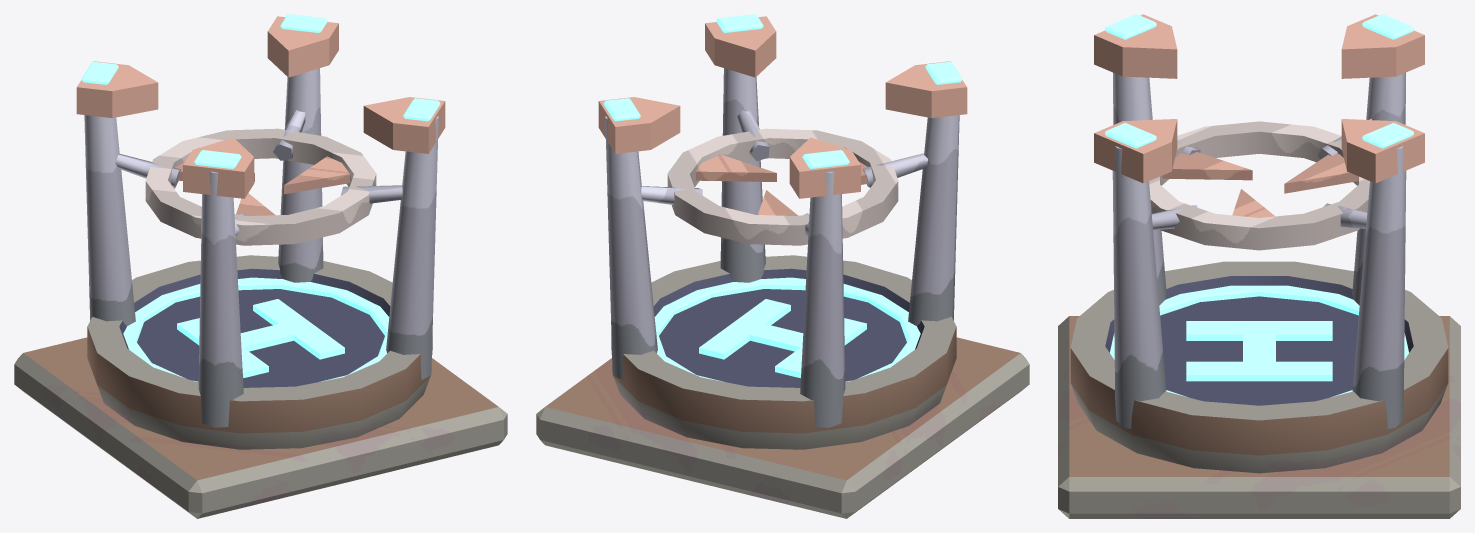
The model's file is R4X_FlyingDroneDeployer_LOD1.glb.
3 views of the same model, side by side, from view 1: azimuth 30°, elevation 25°; view 2: azimuth 150°, elevation 25°; view 3: azimuth 270°, elevation 25° (orthographic). The views are drawn at different scales.
Visible parts, largest first — view 1: R4X_FlyingDroneDeployer_LOD1; view 2: R4X_FlyingDroneDeployer_LOD1; view 3: R4X_FlyingDroneDeployer_LOD1.
Boxes of the visible parts, x1,y1,x2,y2 form: R4X_FlyingDroneDeployer_LOD1: [14, 14, 507, 518]; R4X_FlyingDroneDeployer_LOD1: [536, 14, 1029, 518]; R4X_FlyingDroneDeployer_LOD1: [1058, 14, 1460, 518].
Bounding box in the file's own units: 0.52 × 0.513 × 0.52.
5 materials, 4 textured.
